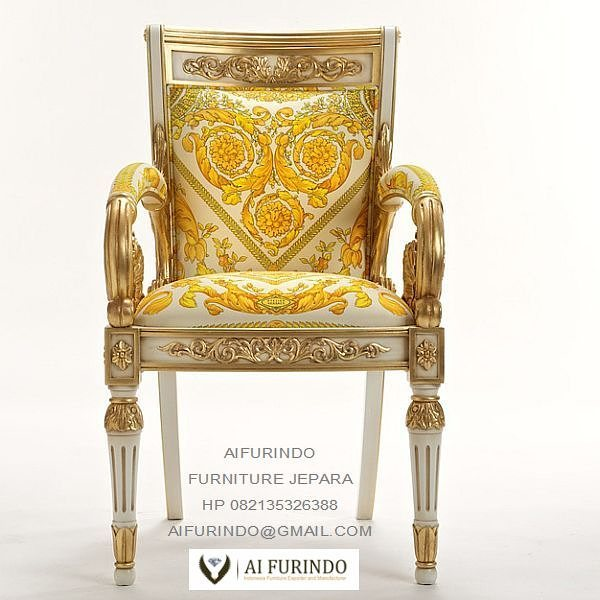Carving Chair: (98, 17, 460, 587)
